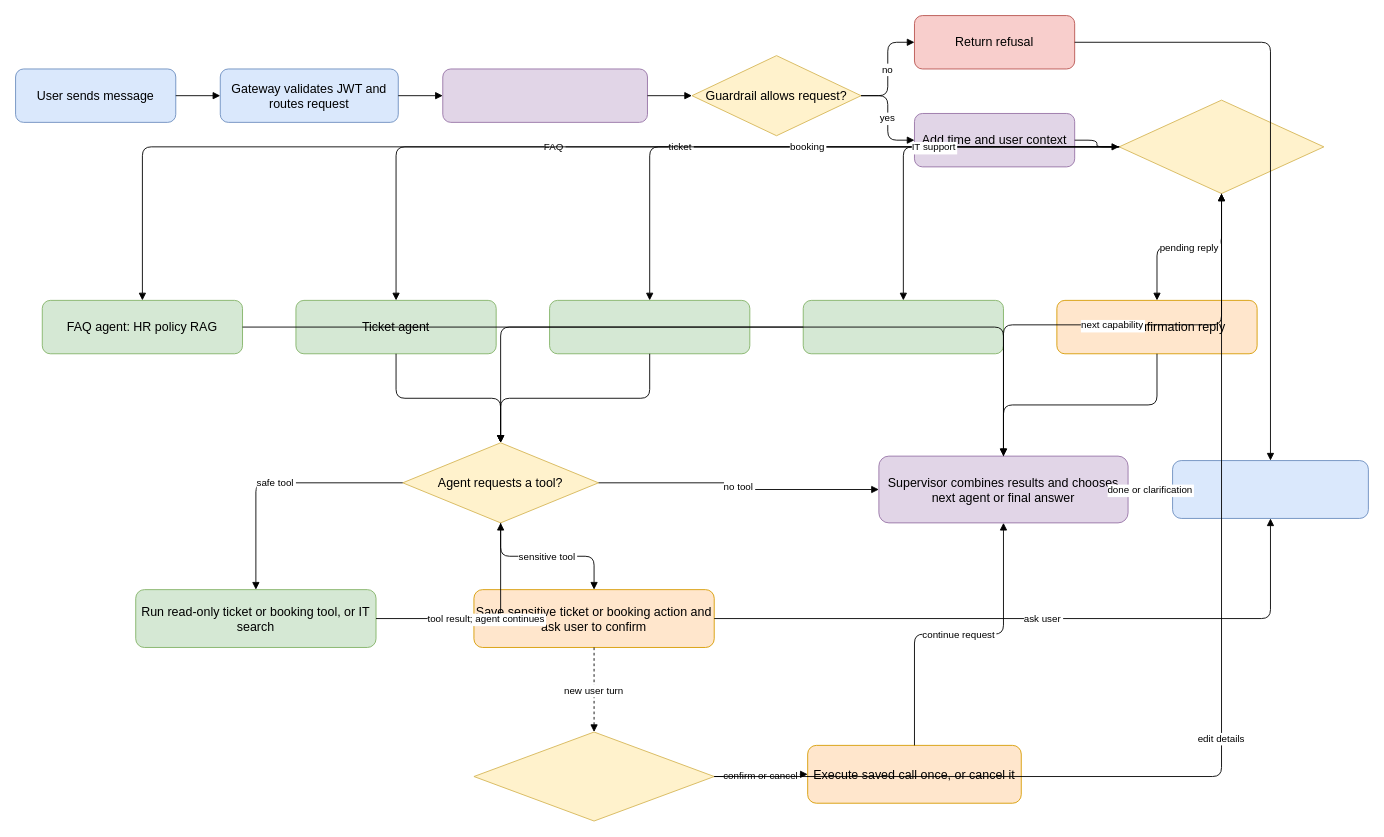
Image size: 1384x837. Some labels were removed from this diagram. The shapes that lost their labels are listed below. From the top down, each one's centre as x and y in pixels, then its label:
point 544,95: Chat orchestrator loads conversation, memory, and checkpoint
point 1221,146: Router checks pending tasks and selects a route
point 649,326: Booking agent
point 902,326: IT support agent: optional search
point 1270,489: Return answer or clarification to user
point 593,776: Next turn: confirm, edit, or cancel?
